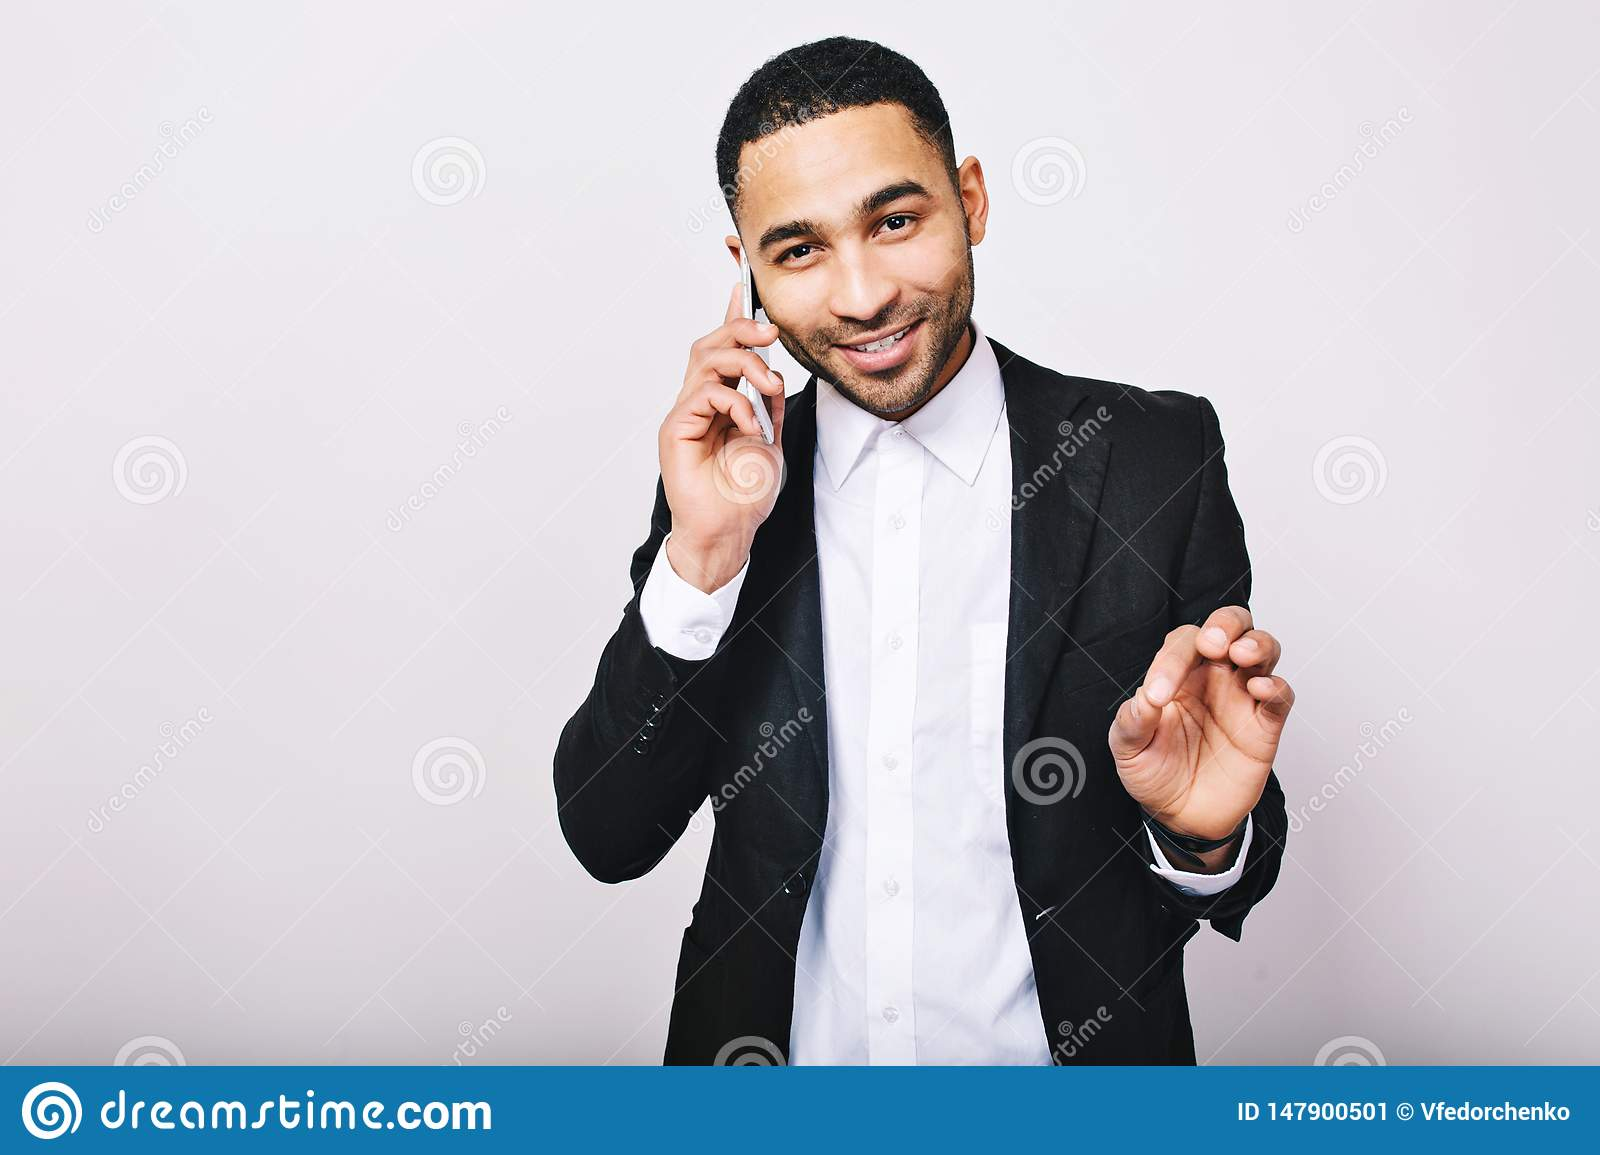phone: (734, 238, 785, 455)
talk: (653, 161, 961, 556)
